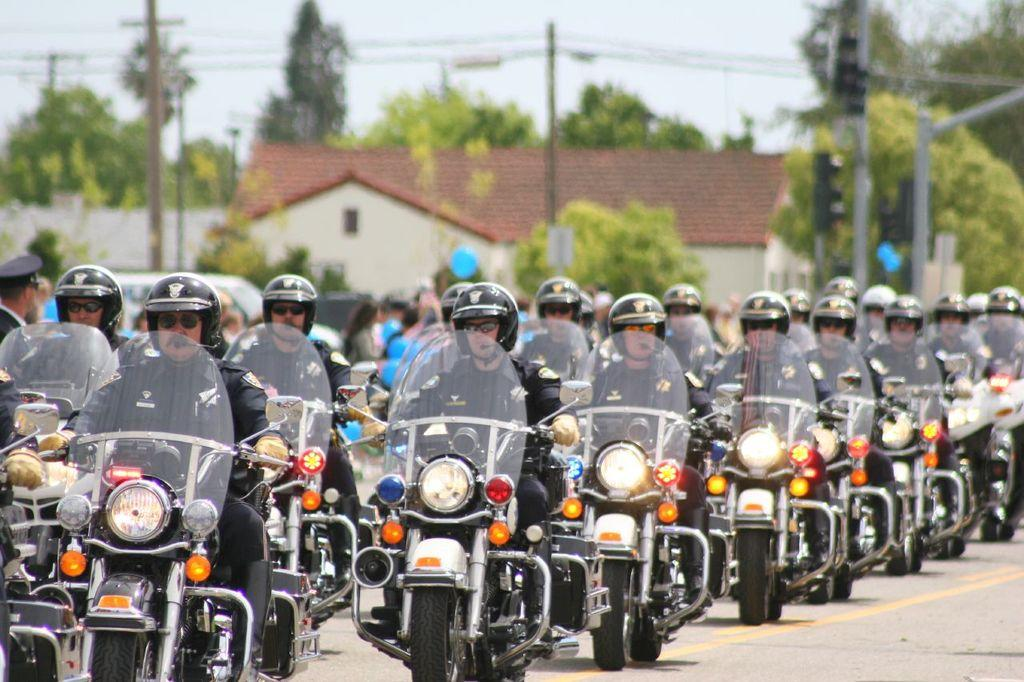helmet: (144, 272, 222, 359), (52, 264, 124, 342), (449, 281, 520, 357), (607, 292, 667, 358), (262, 273, 318, 338), (737, 290, 791, 350), (535, 276, 582, 333), (812, 296, 857, 347), (883, 295, 926, 344), (663, 283, 703, 333), (985, 285, 1024, 332), (933, 292, 971, 338), (861, 284, 900, 327), (777, 288, 813, 330), (963, 292, 996, 327)
